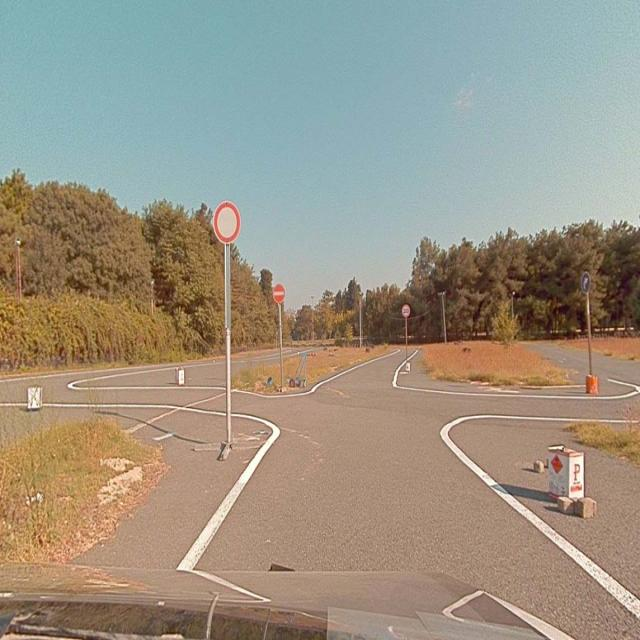20: (402, 305, 410, 317)
girisyok: (274, 285, 284, 302)
sag: (581, 273, 590, 292)
